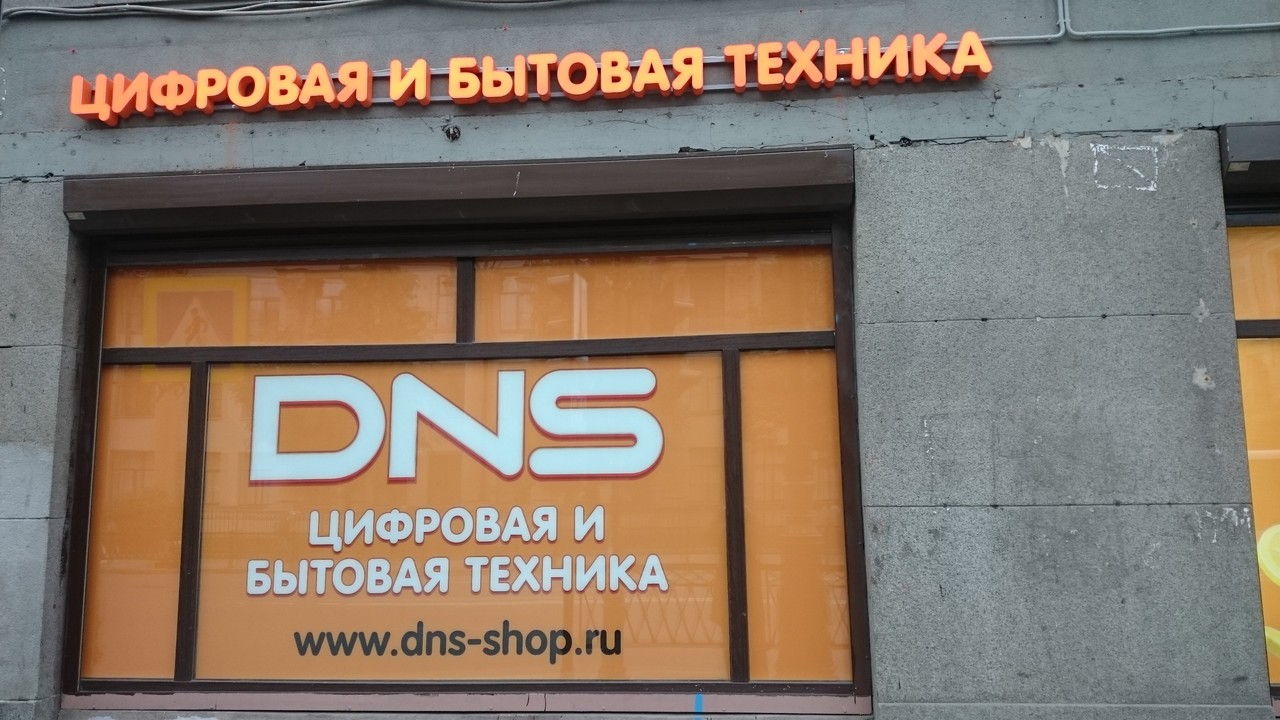signboard: (68, 31, 994, 129)
window: (63, 226, 848, 695)
